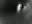person: (24, 3, 32, 19), (16, 4, 23, 15)
